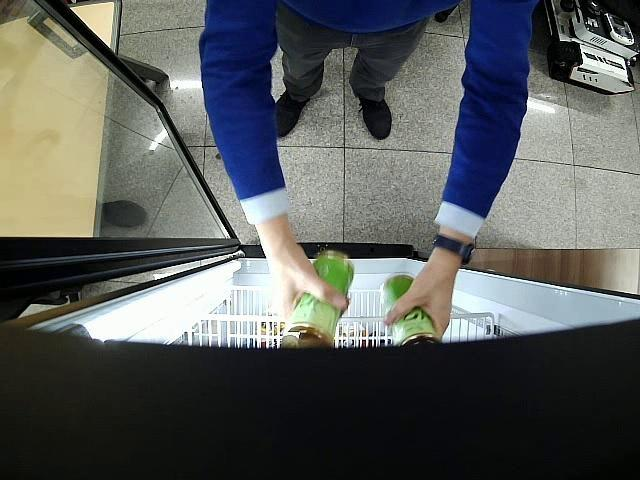19_17cha: (282, 250, 354, 348), (381, 274, 442, 346)
